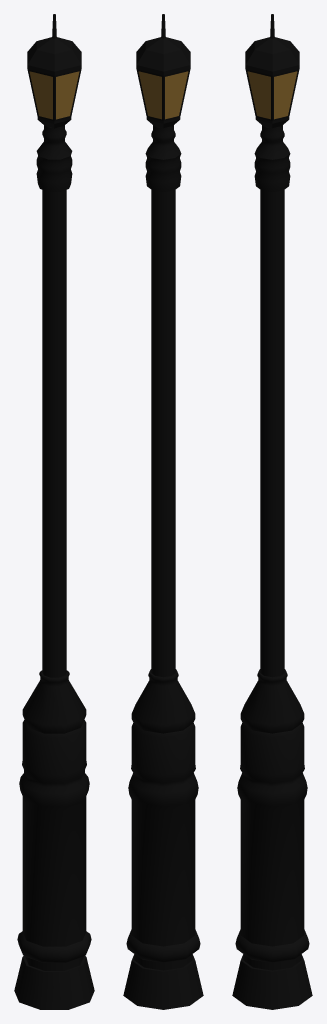
Rendered from Lamp.fbx.
3 views of the same model, side by side, from view 1: azimuth 30°, elevation 25°; view 2: azimuth 210°, elevation 25°; view 3: azimuth 330°, elevation 25° (orthographic).
Visible parts, largest first — view 1: Lamp; view 2: Lamp; view 3: Lamp.
Part boxes in pixels (x1,y1,x2,y2): Lamp: (14, 14, 94, 1009); Lamp: (123, 14, 203, 1009); Lamp: (232, 14, 312, 1009).
Bounding box in the file's own units: 26.29 × 358 × 26.7.
